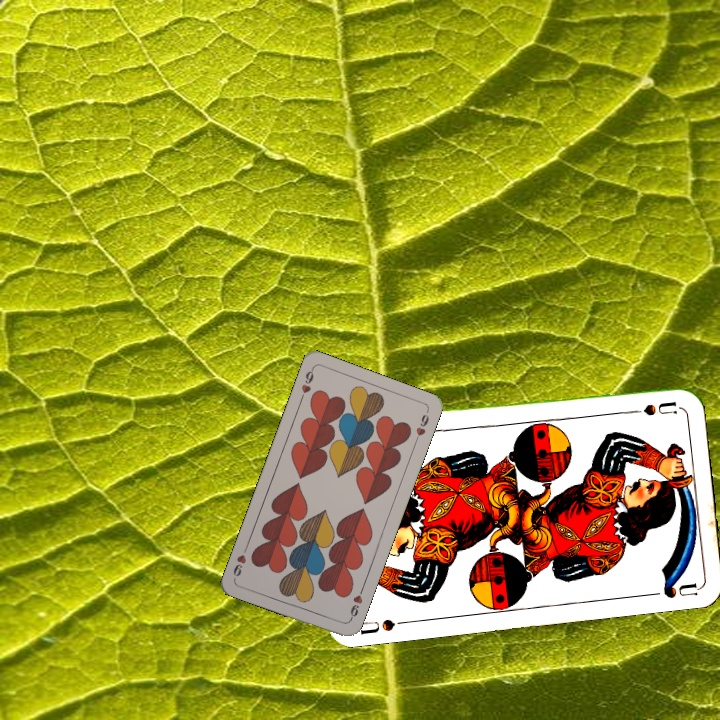H9: (296, 364, 316, 404), (346, 584, 366, 623)
SU: (619, 397, 678, 418), (356, 615, 397, 637)
